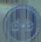bike lane: (3, 6, 40, 38)
